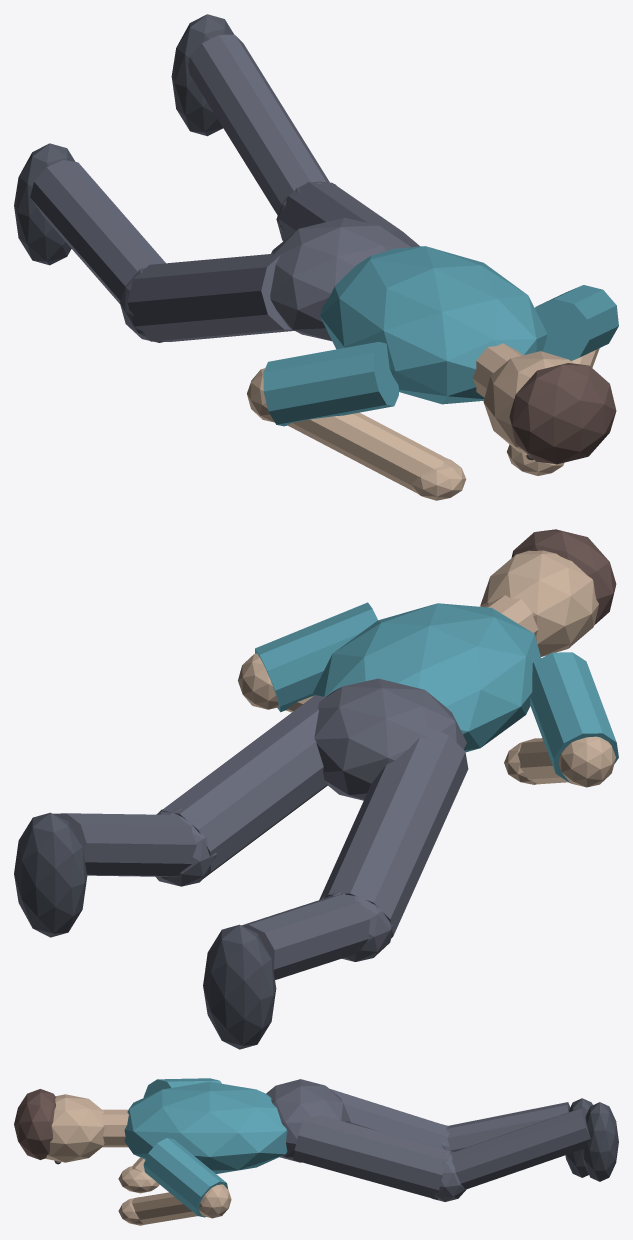
3 renders of one model, top to bottom at view 1: azimuth 30°, elevation 25°; view 2: azimuth 150°, elevation 25°; view 3: azimuth 270°, elevation 25°, orthographic. The views are drawn at different scales.
Visible parts, largest first — view 1: world; view 2: world; view 3: world.
Part boxes in pixels (left/top/right/bottom): world: left=14, top=14, right=618, bottom=500; world: left=14, top=529, right=618, bottom=1049; world: left=14, top=1078, right=618, bottom=1225.
Size of the model in its own units: 0.93 by 0.4905 by 2.06.
